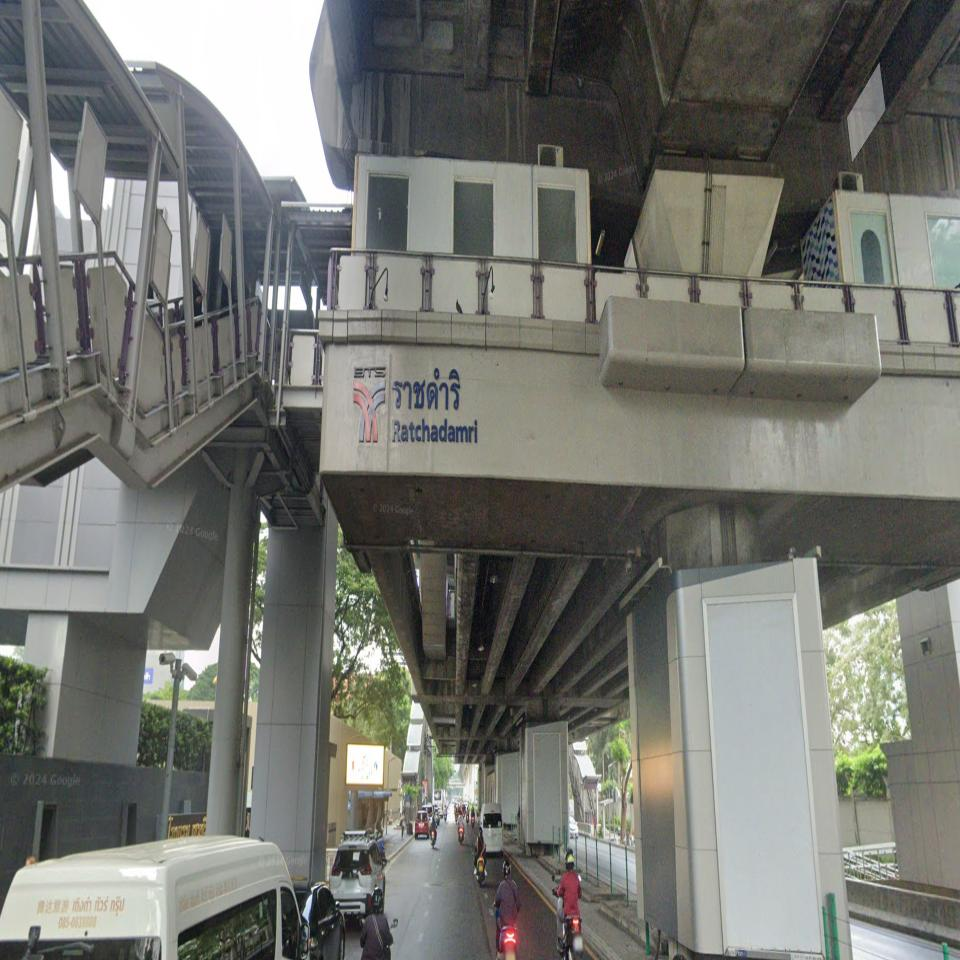Ratchadamri: (352, 365, 479, 446), (392, 365, 479, 446)
